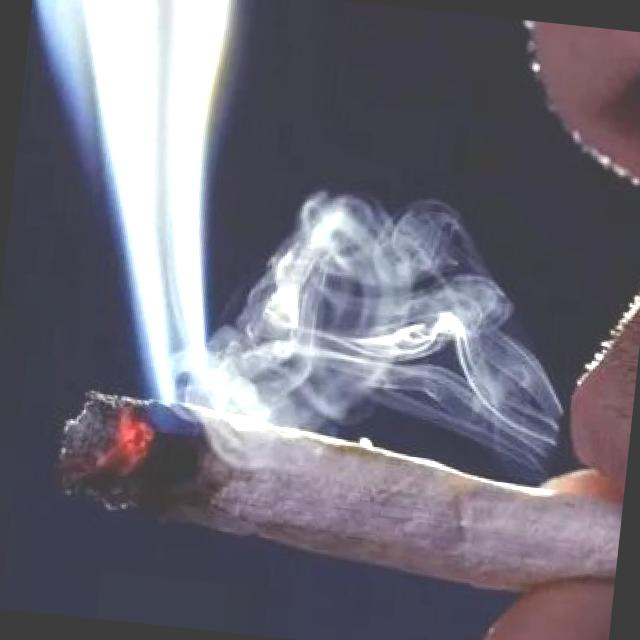smoke: (44, 368, 630, 606)
